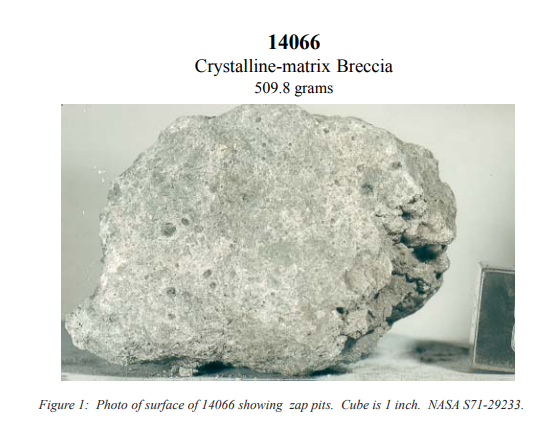Breccia: (70, 110, 458, 371), (227, 137, 450, 349)
